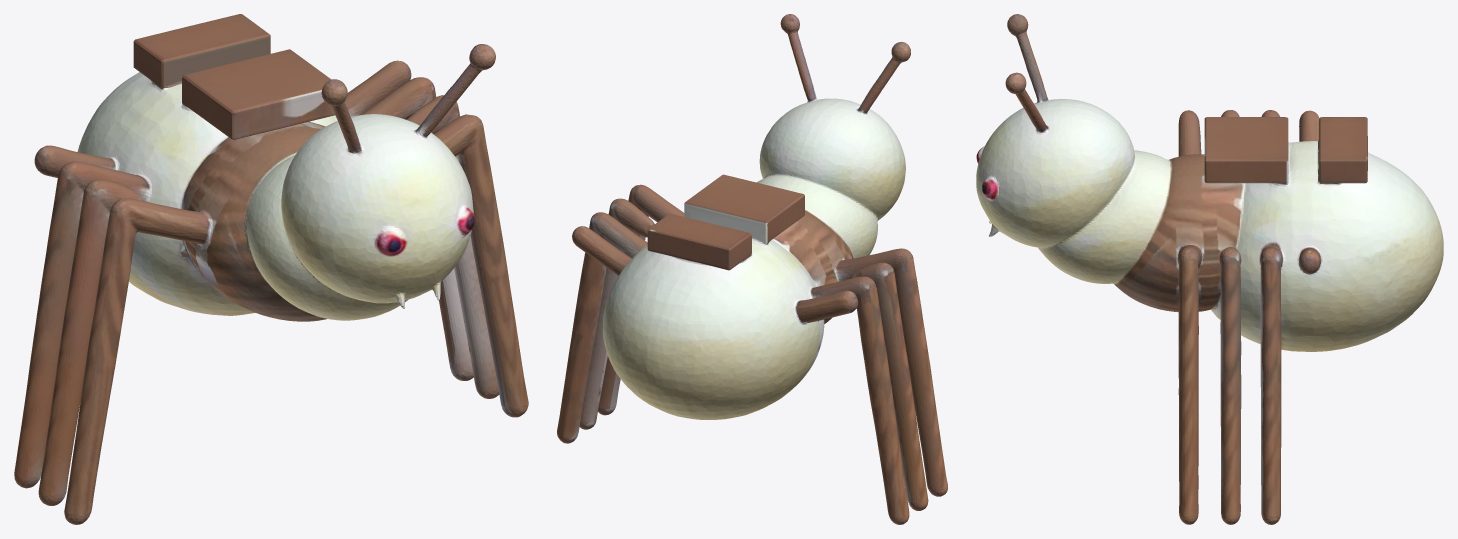
The model's file is creature-092.glb.
The picture shows the model from 3 angles, left to right: view 1: azimuth 30°, elevation 25°; view 2: azimuth 150°, elevation 25°; view 3: azimuth 270°, elevation 25°; orthographic projection. The views are drawn at different scales.
Parts seen in each view (by area): view 1: tmp_cubt087.ply; view 2: tmp_cubt087.ply; view 3: tmp_cubt087.ply.
Part boxes in pixels (x1,y1,x2,y2): tmp_cubt087.ply: [14, 14, 528, 524]; tmp_cubt087.ply: [557, 14, 947, 524]; tmp_cubt087.ply: [976, 14, 1443, 524].
Bounding box in the file's own units: 1.86 × 1.86 × 1.99.
Materials: 1 (1 with a texture image).
